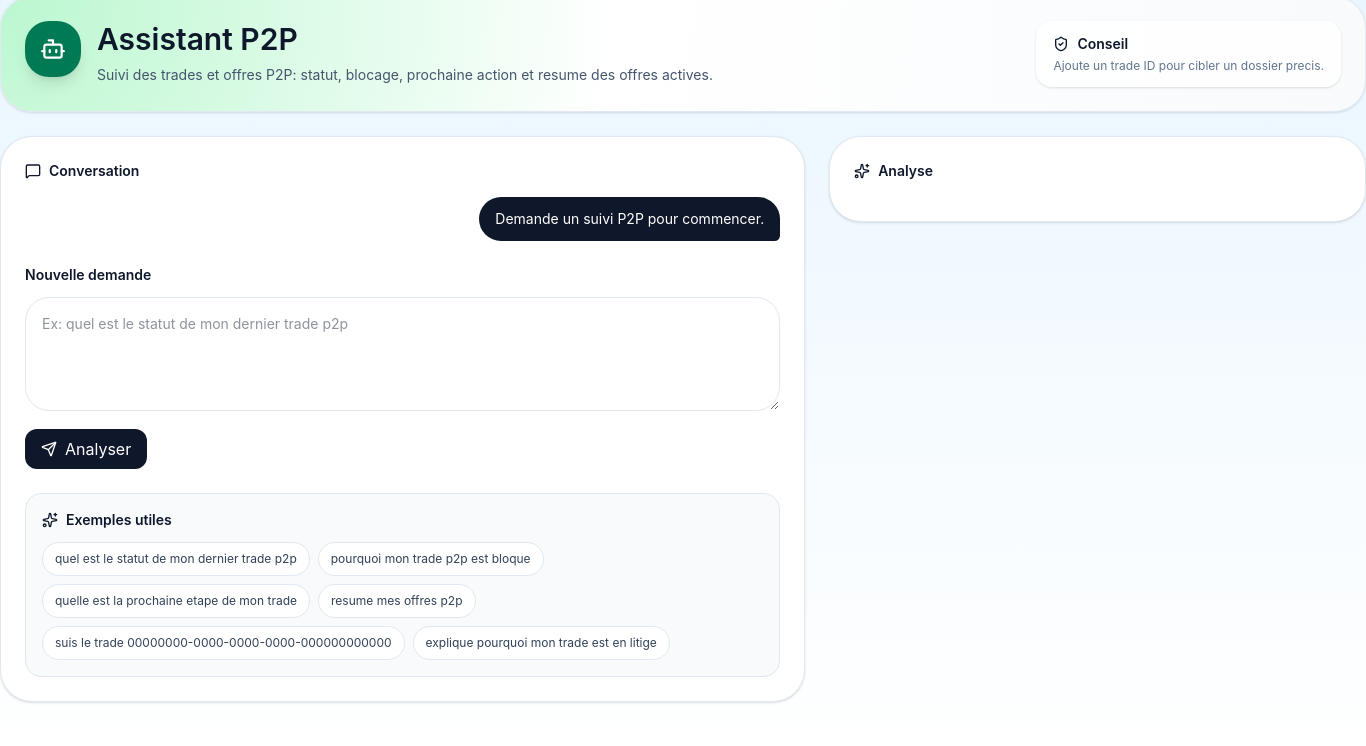
P2PAgentPage › replays a p2p suggestion when clicked
Click the button "pourquoi mon trade p2p est bloque". click: (431, 559)
box: [318,542,544,576]
(page scrolled)
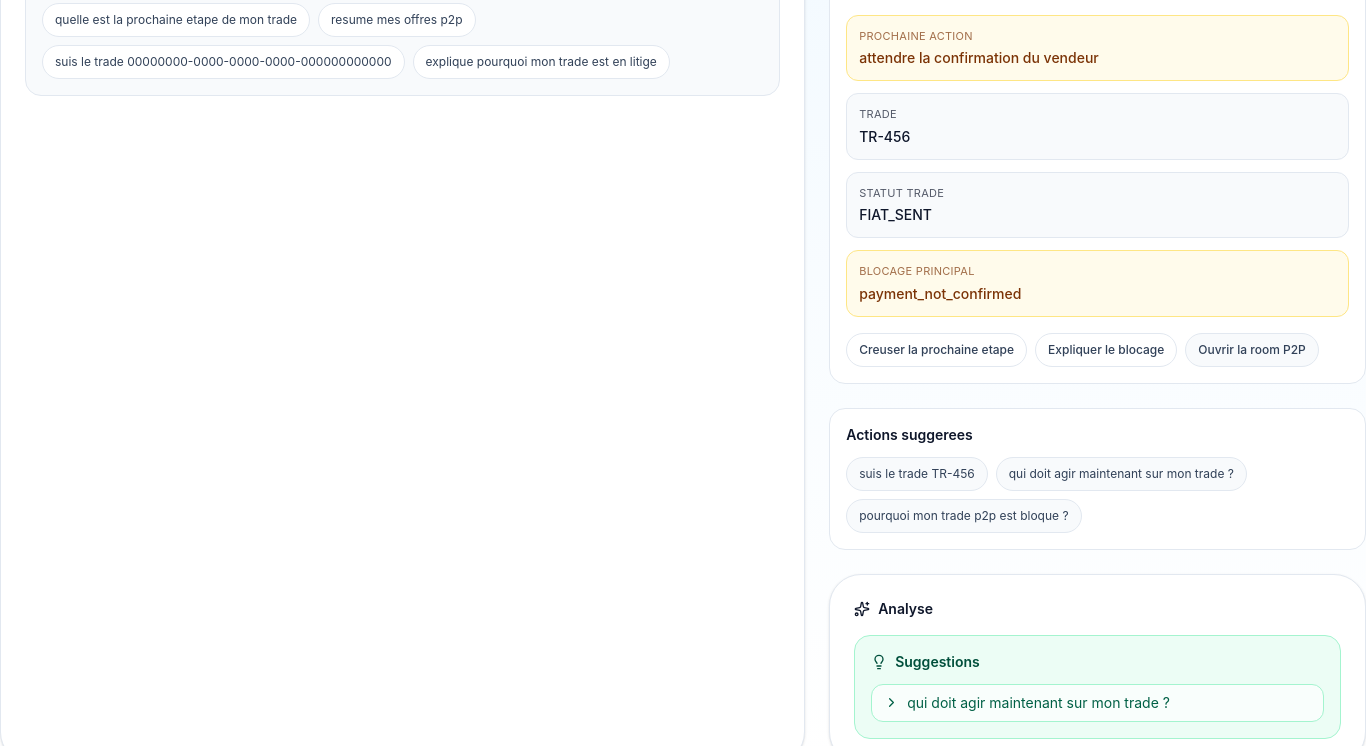
Click the button "qui doit agir maintenant sur mon trade ?" below "Actions suggerees". click: (1121, 474)
box: [996,456,1247,490]
(page scrolled)
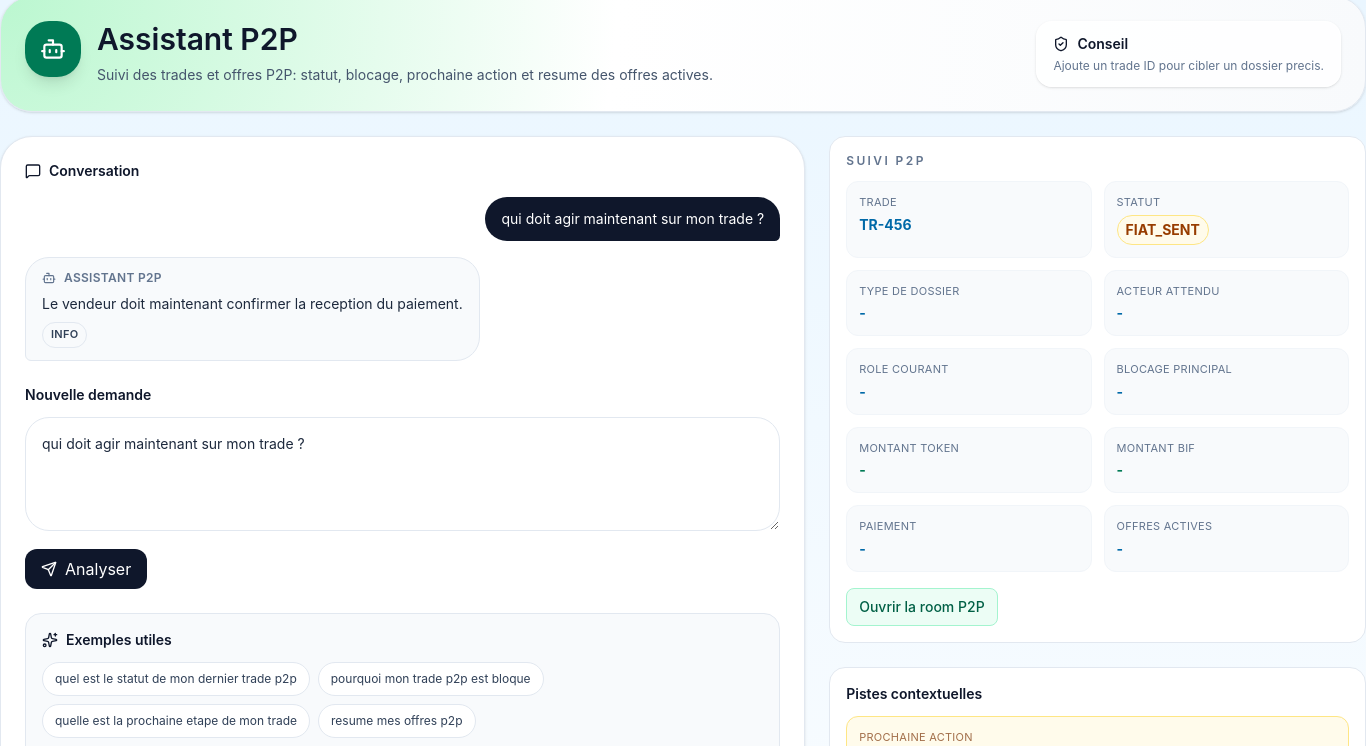
Result: the text "Le vendeur doit maintenant confirmer la reception du paiement." is shown at [42,294,463,314]
